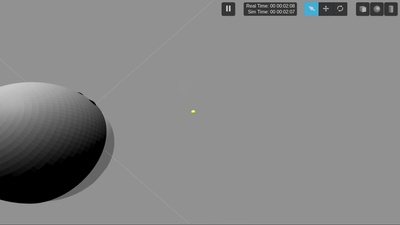mira_robot: (1, 81, 115, 204)
